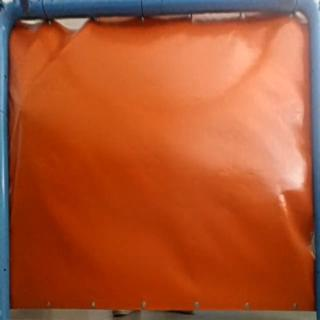Hit-hRxx: (14, 102, 32, 119)
